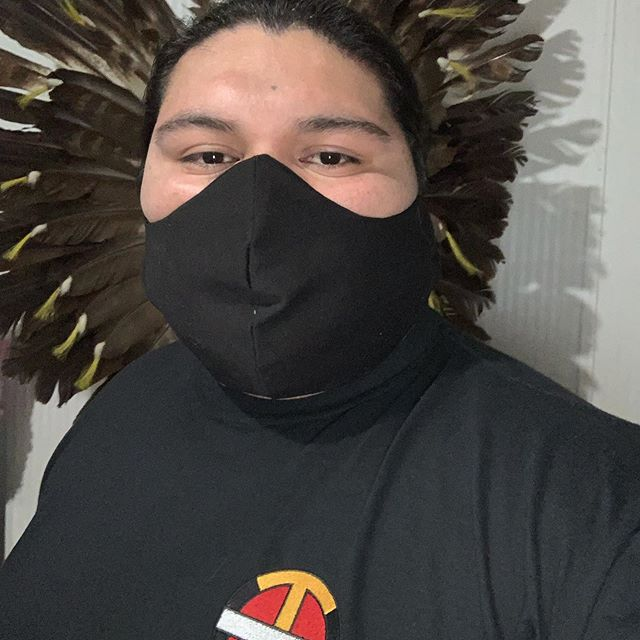homemade: (128, 173, 451, 396)
